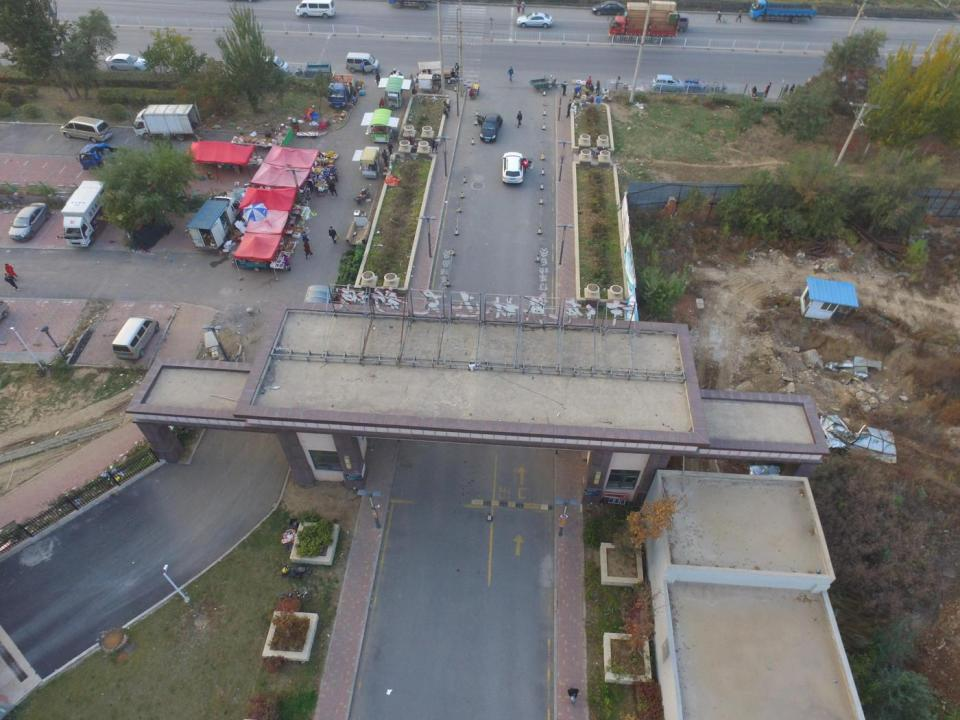car: (8, 202, 50, 241), (502, 152, 533, 184), (477, 113, 503, 141), (105, 54, 147, 70), (652, 74, 683, 93), (516, 12, 552, 28), (592, 1, 626, 16)
truck: (56, 180, 115, 246), (607, 1, 679, 42), (74, 142, 152, 176), (132, 104, 200, 140), (749, 0, 817, 24), (327, 71, 357, 108)
van: (112, 317, 159, 359), (60, 116, 112, 143), (244, 56, 289, 76), (296, 0, 336, 19), (346, 52, 379, 74), (657, 14, 689, 31)
